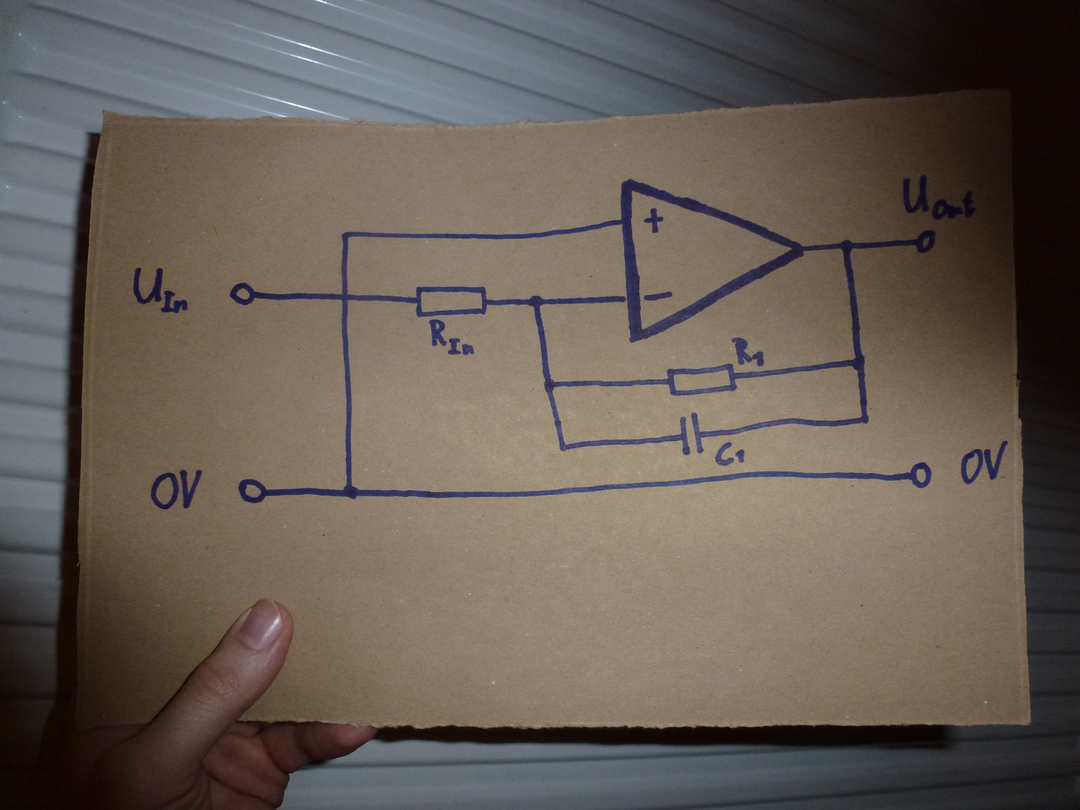capacitor.unpolarized: (678, 411, 707, 456)
crossover: (337, 288, 354, 305)
junction: (340, 482, 360, 502), (527, 292, 547, 310), (540, 375, 558, 394), (850, 352, 867, 372), (836, 237, 856, 253), (557, 438, 574, 456), (338, 229, 354, 243), (858, 412, 872, 426)
operational_amplifier: (619, 178, 805, 343)
resistor: (412, 282, 490, 318), (666, 361, 738, 399)
terminal: (236, 477, 269, 505), (227, 280, 258, 306), (908, 460, 933, 490), (914, 228, 938, 254)
text: (901, 174, 976, 222), (131, 266, 190, 315), (149, 468, 204, 511), (959, 439, 1009, 485), (428, 318, 477, 357), (731, 335, 767, 368), (713, 439, 747, 467)
